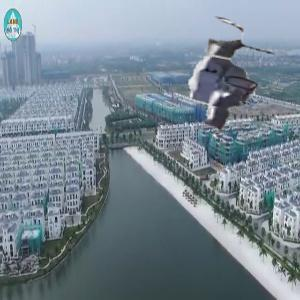drone: (153, 15, 283, 145)
